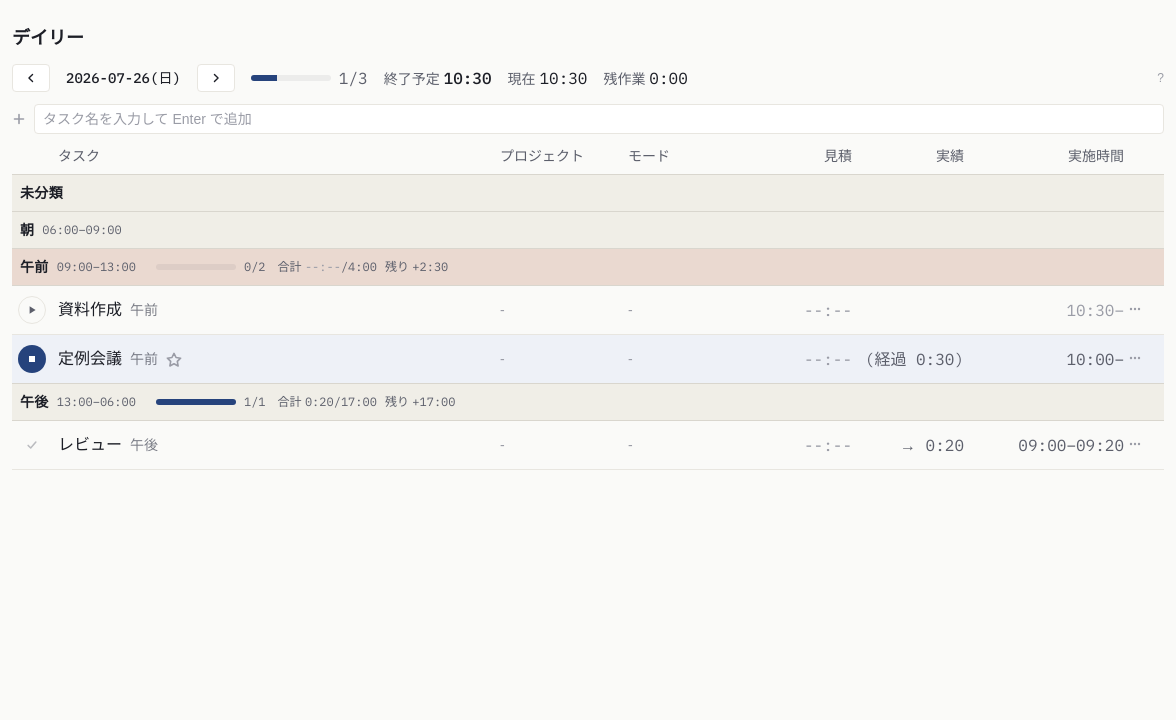
Test case: DailyBoard の URL 編集（O-18 / F-125 / §8） › http(s) で始まらない値は送信せずエラートーストを出し、入力欄は閉じる
This screenshot has width=1176, height=720.
Click the button named "行メニュー" next to "10:30–" at (1135, 308), box 1124,298 -> 1146,320
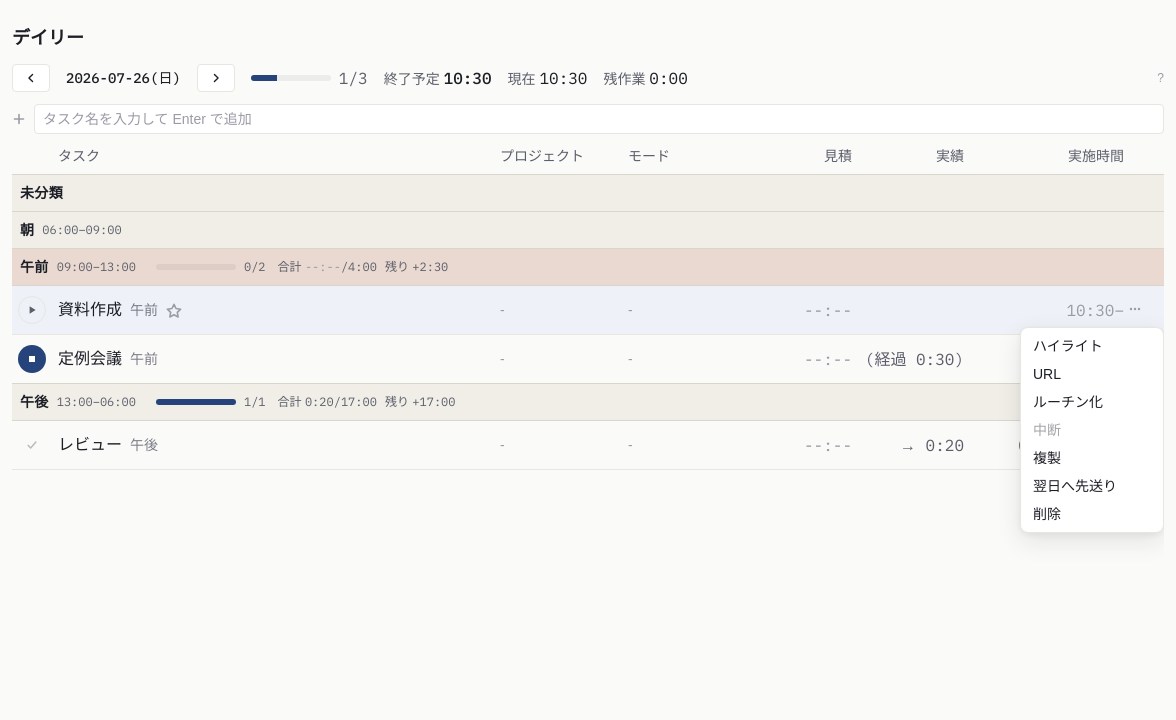
Click the button "URL" at (1092, 374), box 1021,360 -> 1163,388
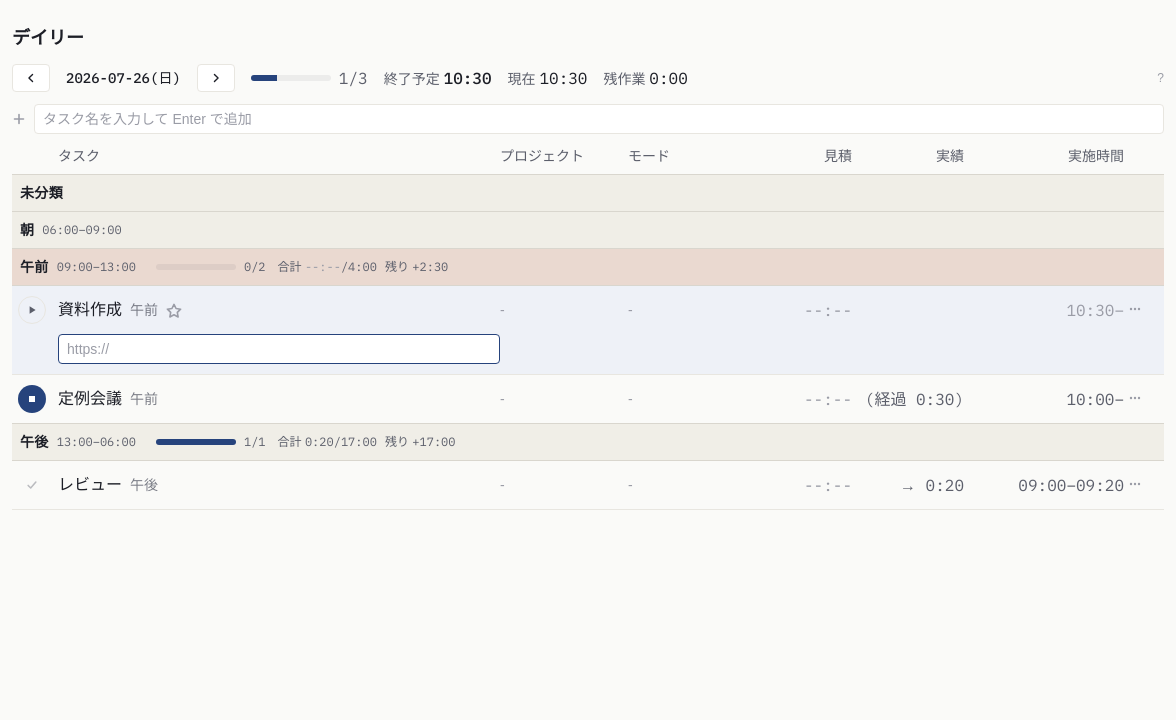
Type "example.com" into the field with placeholder "https://" at (279, 349), box 58,334 -> 500,364
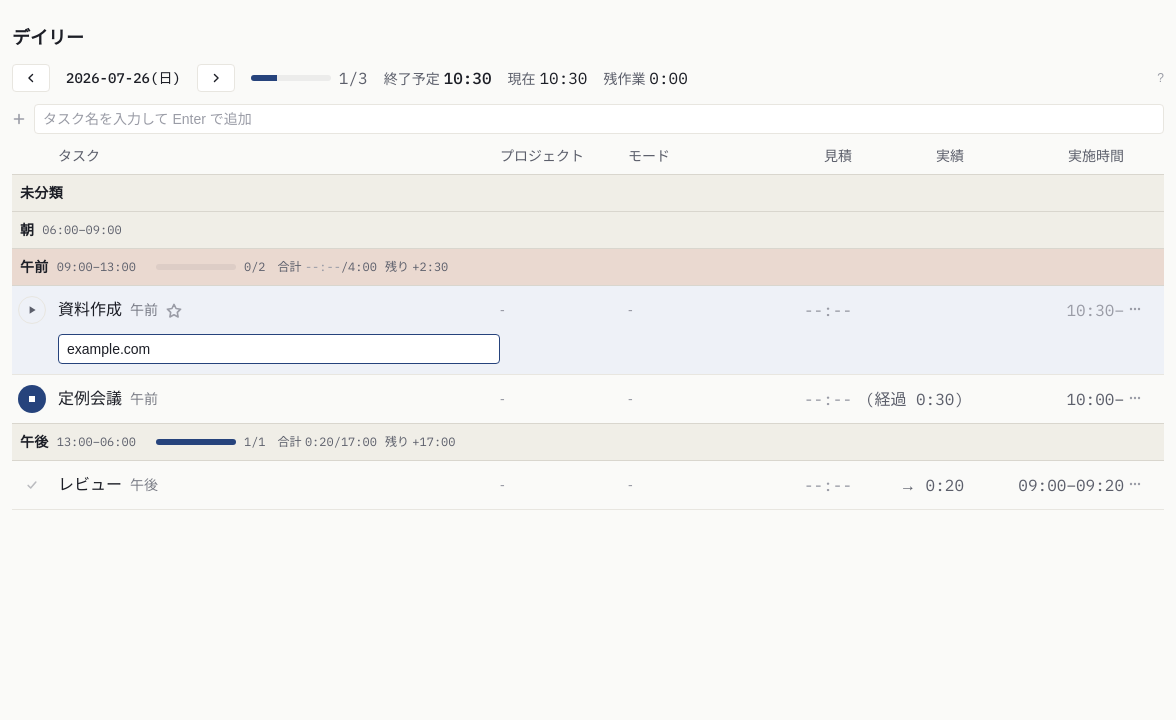
Press Enter in the field with placeholder "https://", box 58,334 -> 500,364
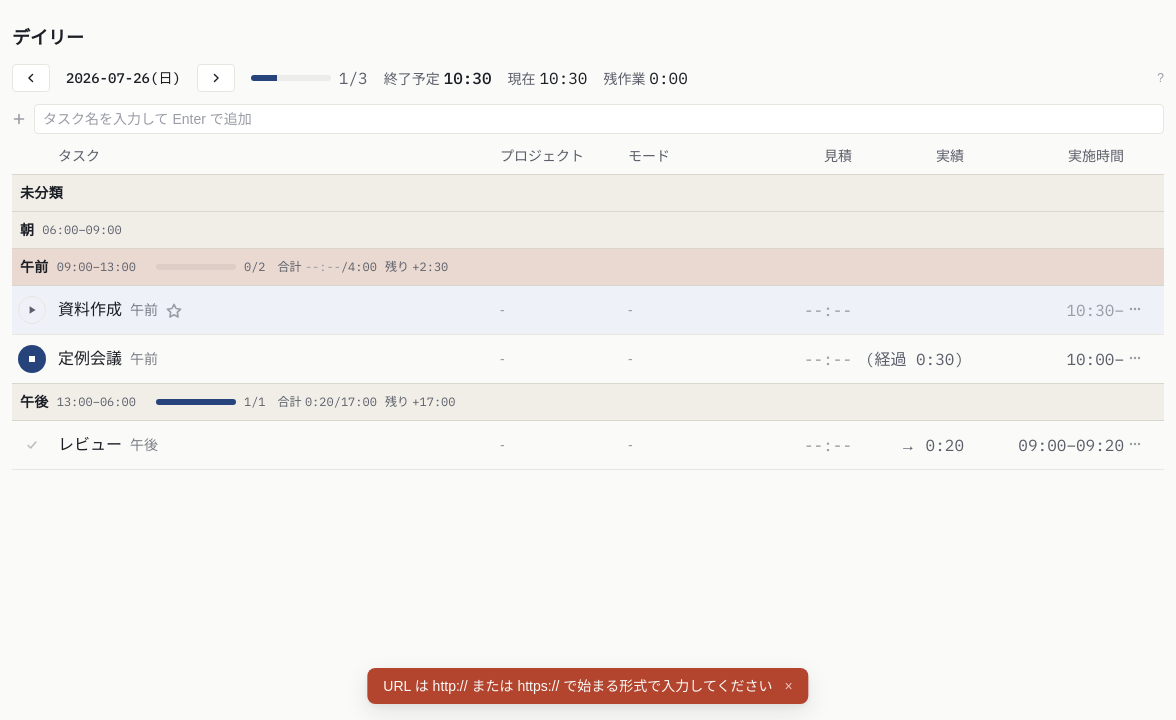
expect the text "URL は http:// または https:// で始まる形式で入力してください" is shown: met, box 383,676 -> 772,696
